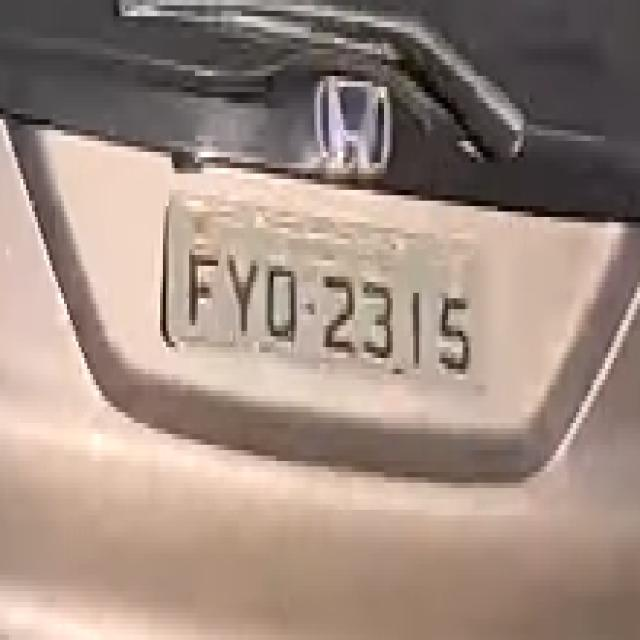Placa_mercosul_carro: (163, 191, 485, 395)
